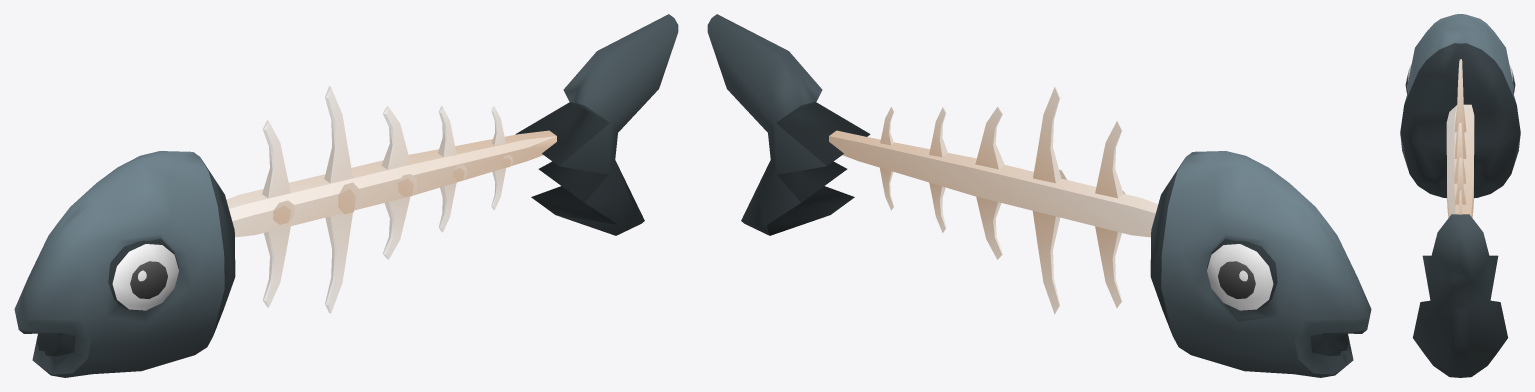
The model's file is fishalmostdead.glb.
The picture shows the model from 3 angles, left to right: view 1: azimuth 30°, elevation 25°; view 2: azimuth 150°, elevation 25°; view 3: azimuth 270°, elevation 25°; orthographic projection. The views are drawn at different scales.
Parts seen in each view (by area): view 1: fishalmostdead; view 2: fishalmostdead; view 3: fishalmostdead.
Boxes of the visible parts, <box> form: fishalmostdead: <box>14,14,678,377</box>; fishalmostdead: <box>707,14,1371,377</box>; fishalmostdead: <box>1400,14,1520,377</box>.
Size of the model in its own units: 1.05 by 0.3486 by 0.1915.
Materials: 1 (1 with a texture image).
